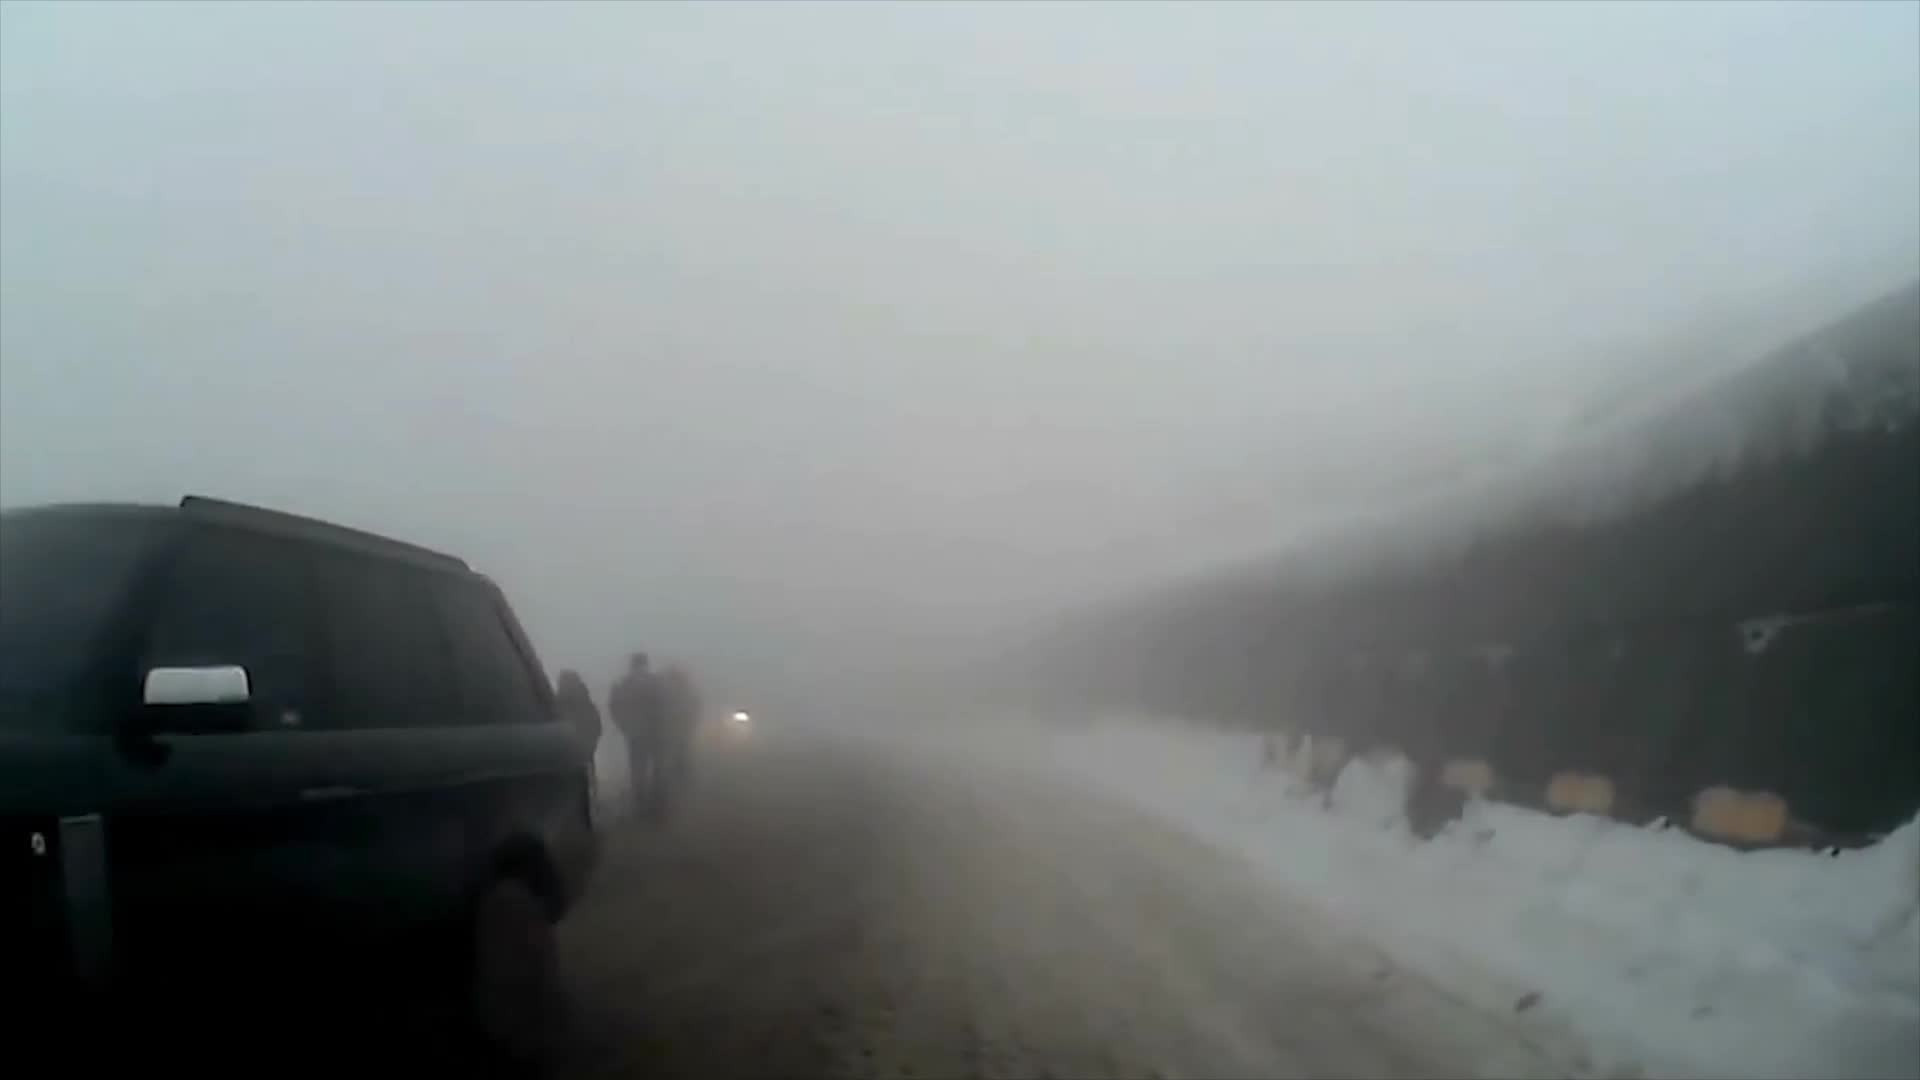pedestrian: (531, 671, 606, 841), (608, 653, 673, 823)
vehicle: (0, 493, 603, 1080)
